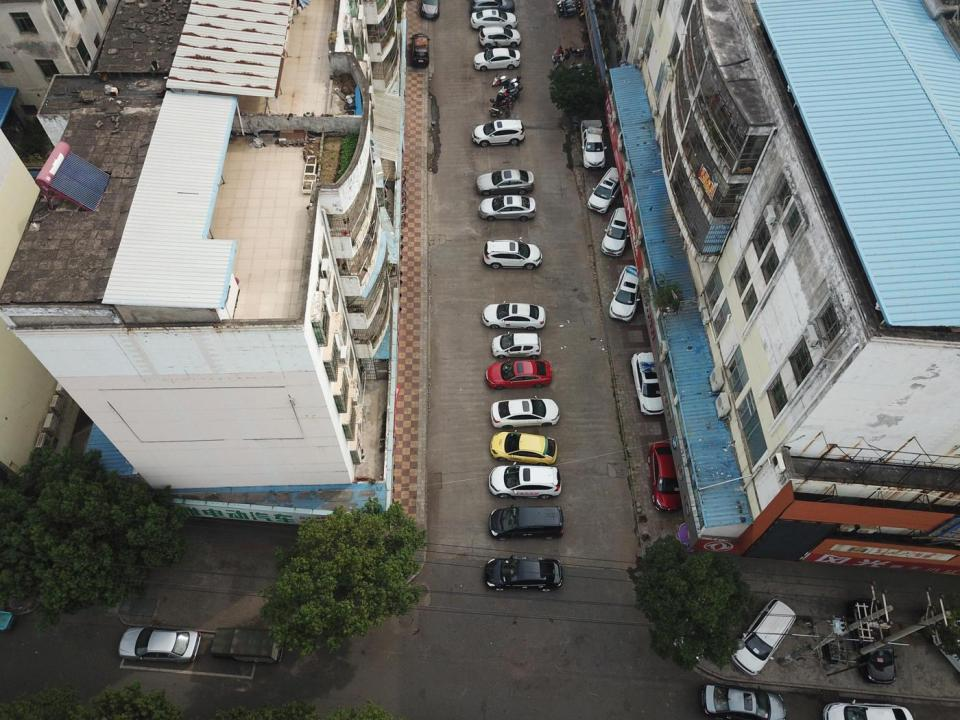car: (852, 598, 897, 684), (701, 683, 785, 720), (483, 555, 563, 592), (119, 628, 201, 663), (648, 441, 684, 513), (489, 463, 562, 498), (631, 352, 669, 416), (490, 432, 557, 466), (486, 358, 553, 389), (491, 398, 560, 428), (609, 264, 644, 322), (482, 301, 546, 331), (587, 166, 625, 215), (483, 238, 542, 268), (824, 701, 914, 720), (472, 118, 524, 149), (478, 195, 536, 221), (475, 170, 534, 195), (602, 207, 632, 256), (492, 332, 541, 359), (479, 25, 521, 47), (470, 9, 518, 28), (467, 0, 514, 14), (420, 0, 439, 20)
truck: (580, 119, 606, 170)
van: (731, 598, 797, 676), (488, 504, 563, 540)
